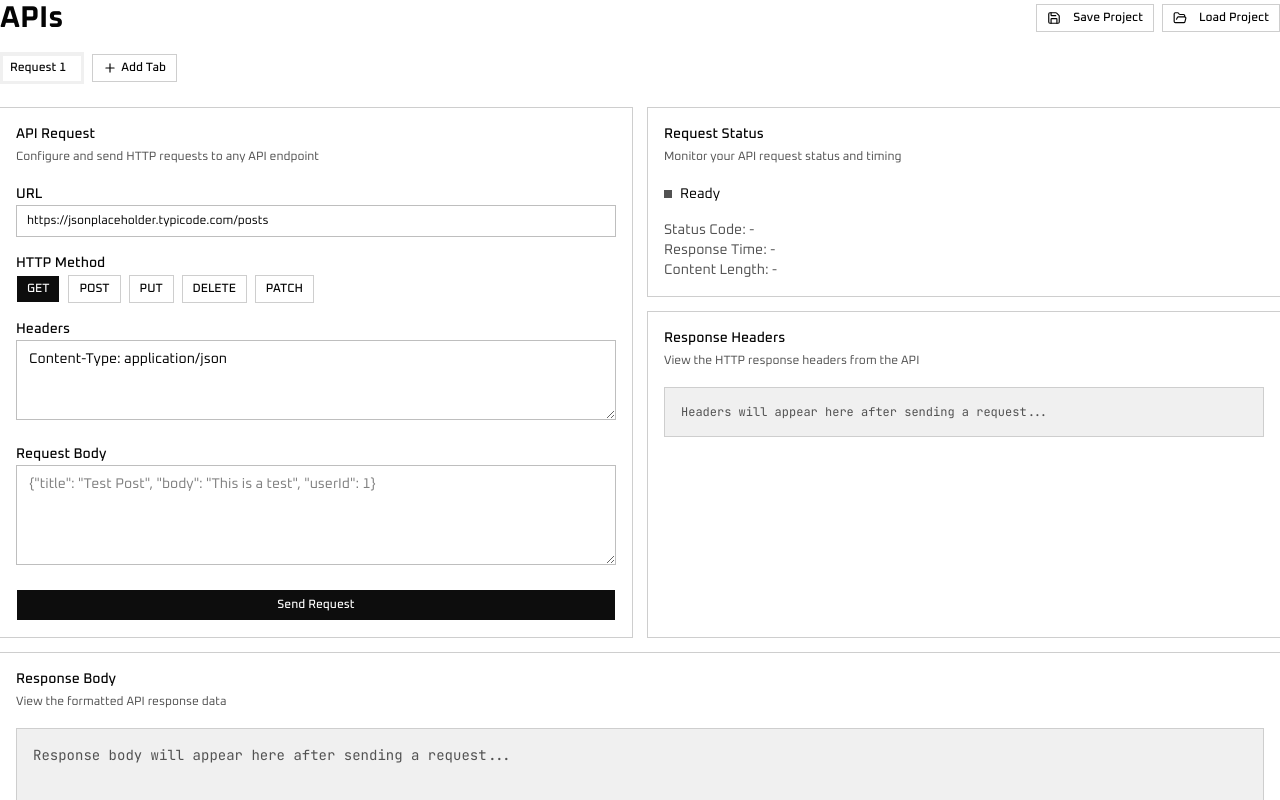
Test: BasicAPIsPage › opens save project dialog when Save Project button is clicked
Click Save Project button
Click the button "Save Project".
click(1095, 18)  # box [1036, 4, 1154, 32]
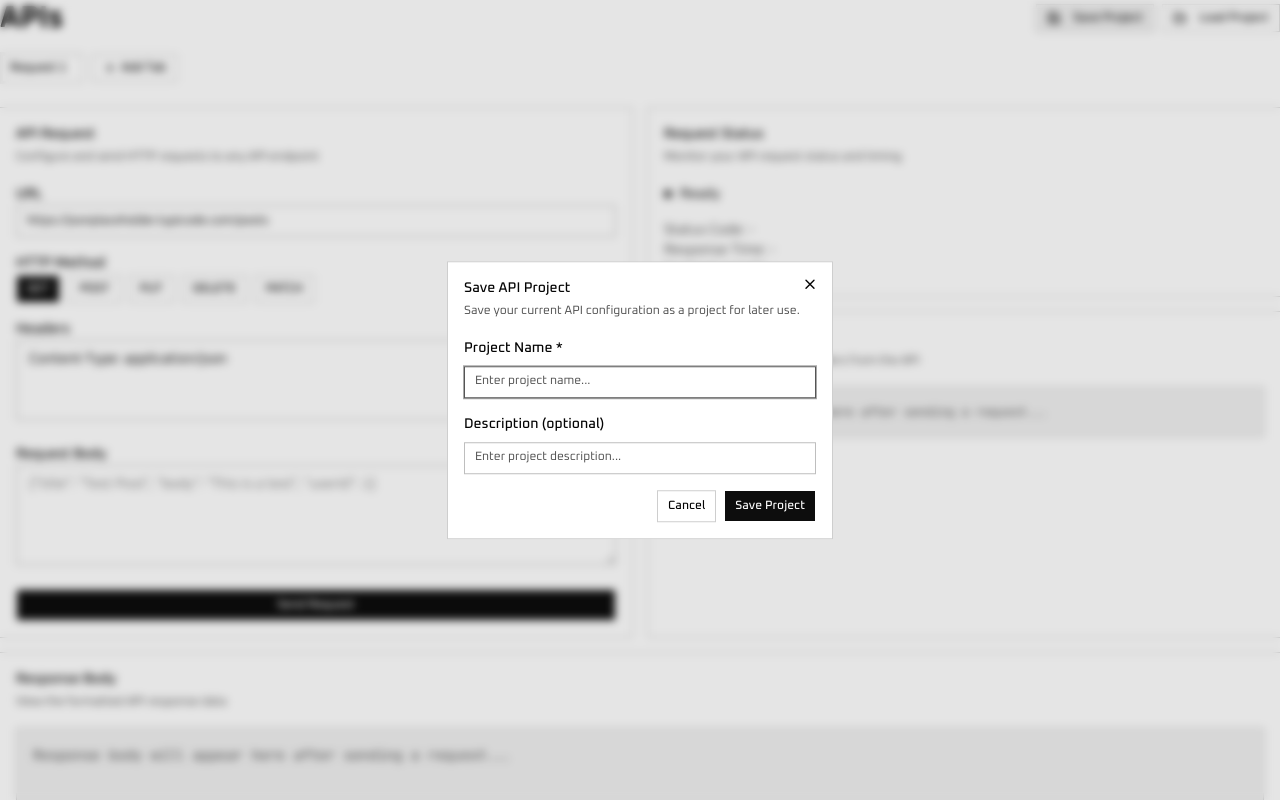
expect the heading "Save API Project" is shown: met, box [464, 281, 570, 295]
expect the text "Project Name *" is shown: met, box [464, 341, 563, 355]
expect the text "Description (optional)" is shown: met, box [464, 417, 604, 431]
